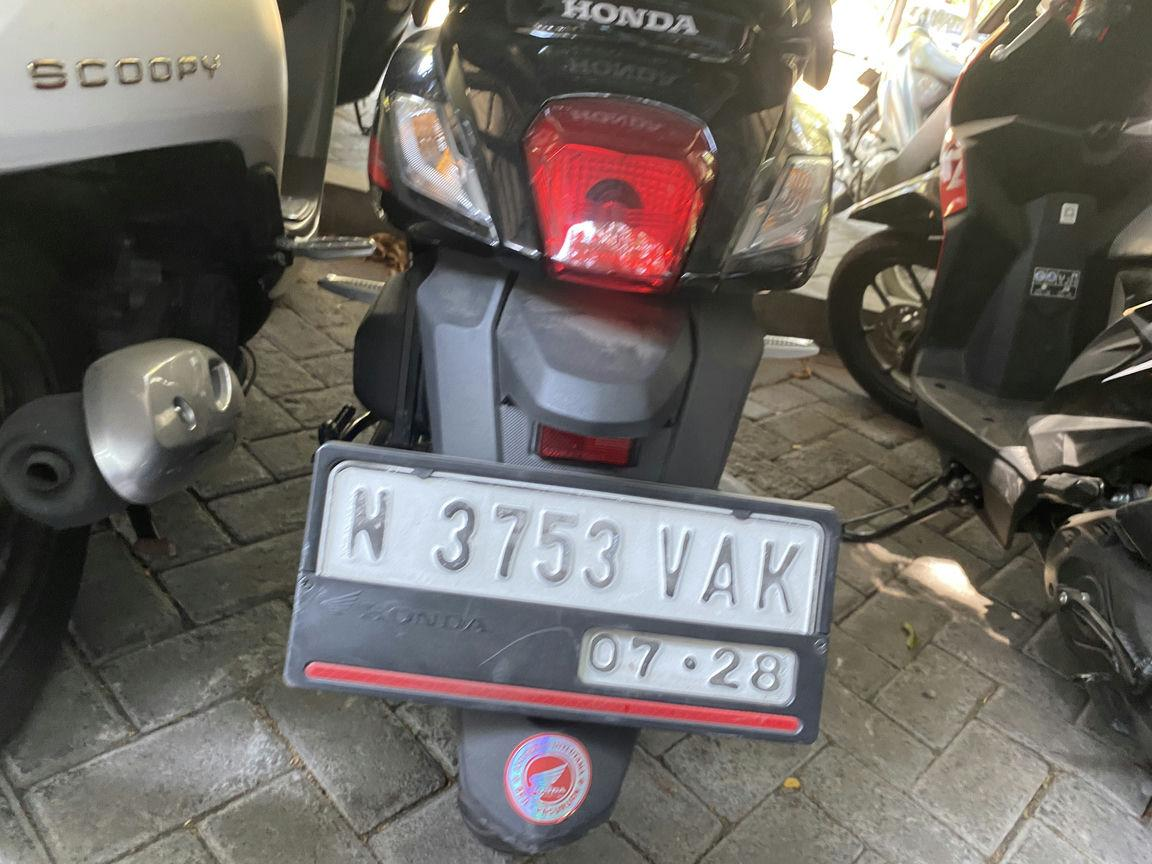plat: (284, 441, 839, 742)
